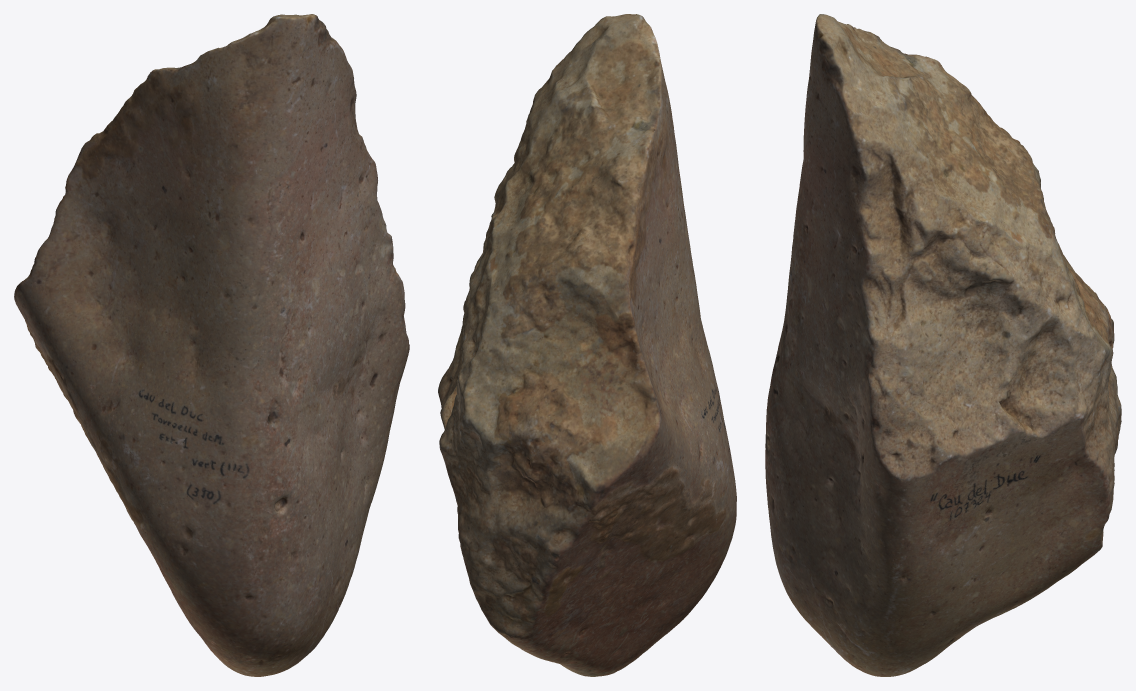
File: MACGIR107317_50K.obj
3 renders of one model, left to right at view 1: azimuth 30°, elevation 25°; view 2: azimuth 150°, elevation 25°; view 3: azimuth 270°, elevation 25°, orthographic. The views are drawn at different scales.
Parts seen in each view (by area): view 1: default; view 2: default; view 3: default.
Boxes of the visible parts, x1,y1,x2,y2 form: default: [14, 14, 409, 676]; default: [438, 14, 736, 676]; default: [765, 14, 1121, 676].
Bounding box in the file's own units: 17.69 × 37.63 × 18.68.
Materials: 1 (1 with a texture image).
